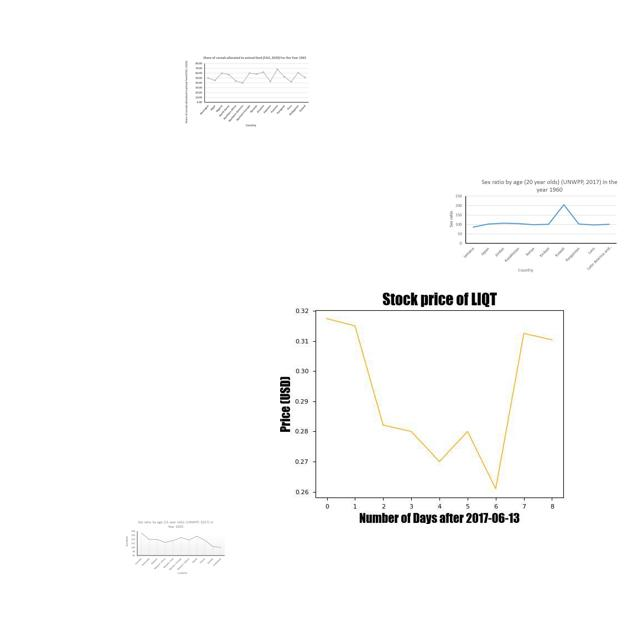Graph: (258, 281, 612, 524), (447, 178, 620, 274), (182, 55, 313, 130), (125, 517, 226, 576)
